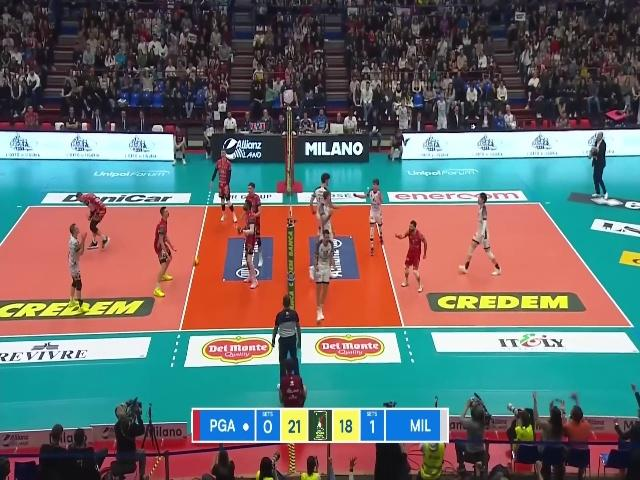volleyball court: (0, 200, 634, 331)
